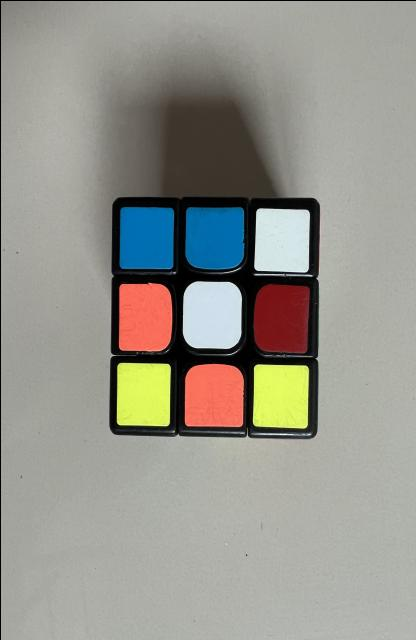Blue: (184, 206, 244, 269), (118, 206, 173, 269)
Orange: (183, 362, 243, 426), (118, 282, 171, 350)
Red: (252, 284, 309, 352)
White: (182, 280, 242, 349), (254, 208, 309, 271)
Yellow: (251, 364, 308, 428), (116, 361, 170, 425)
